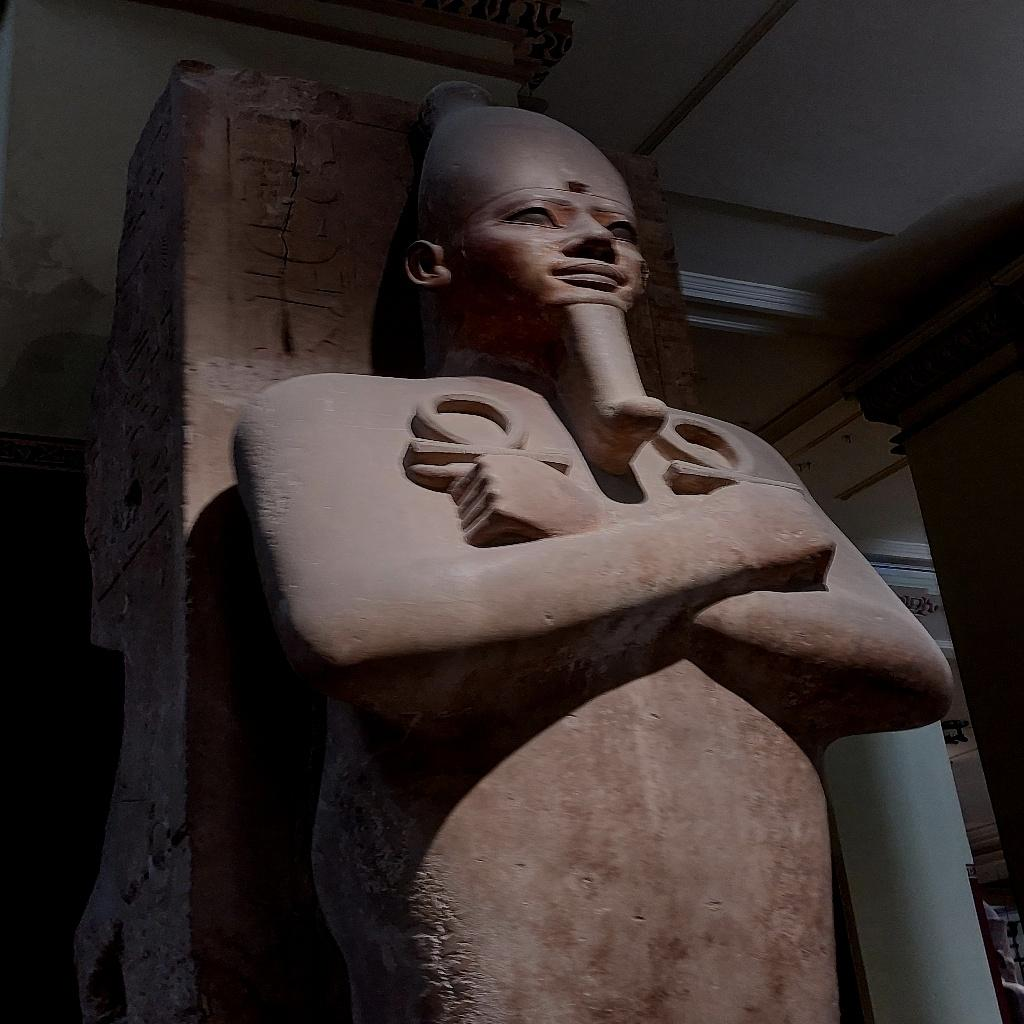Colossus of Senuseret I: (222, 77, 959, 1019)
